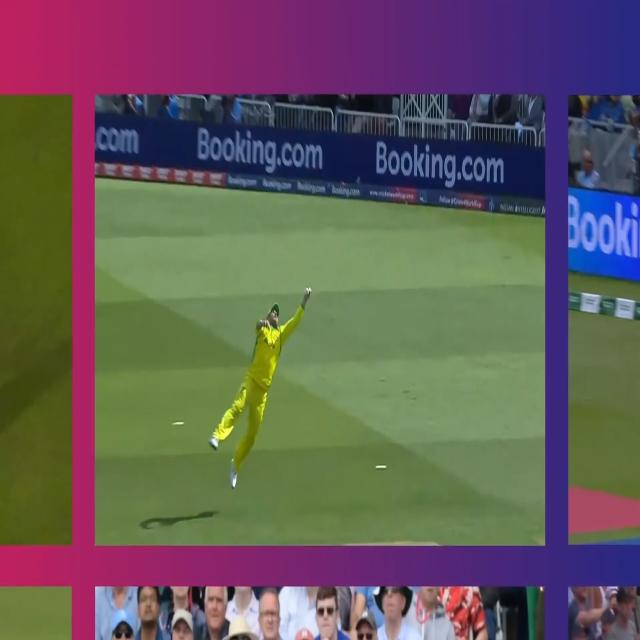ball: (304, 287, 313, 300)
